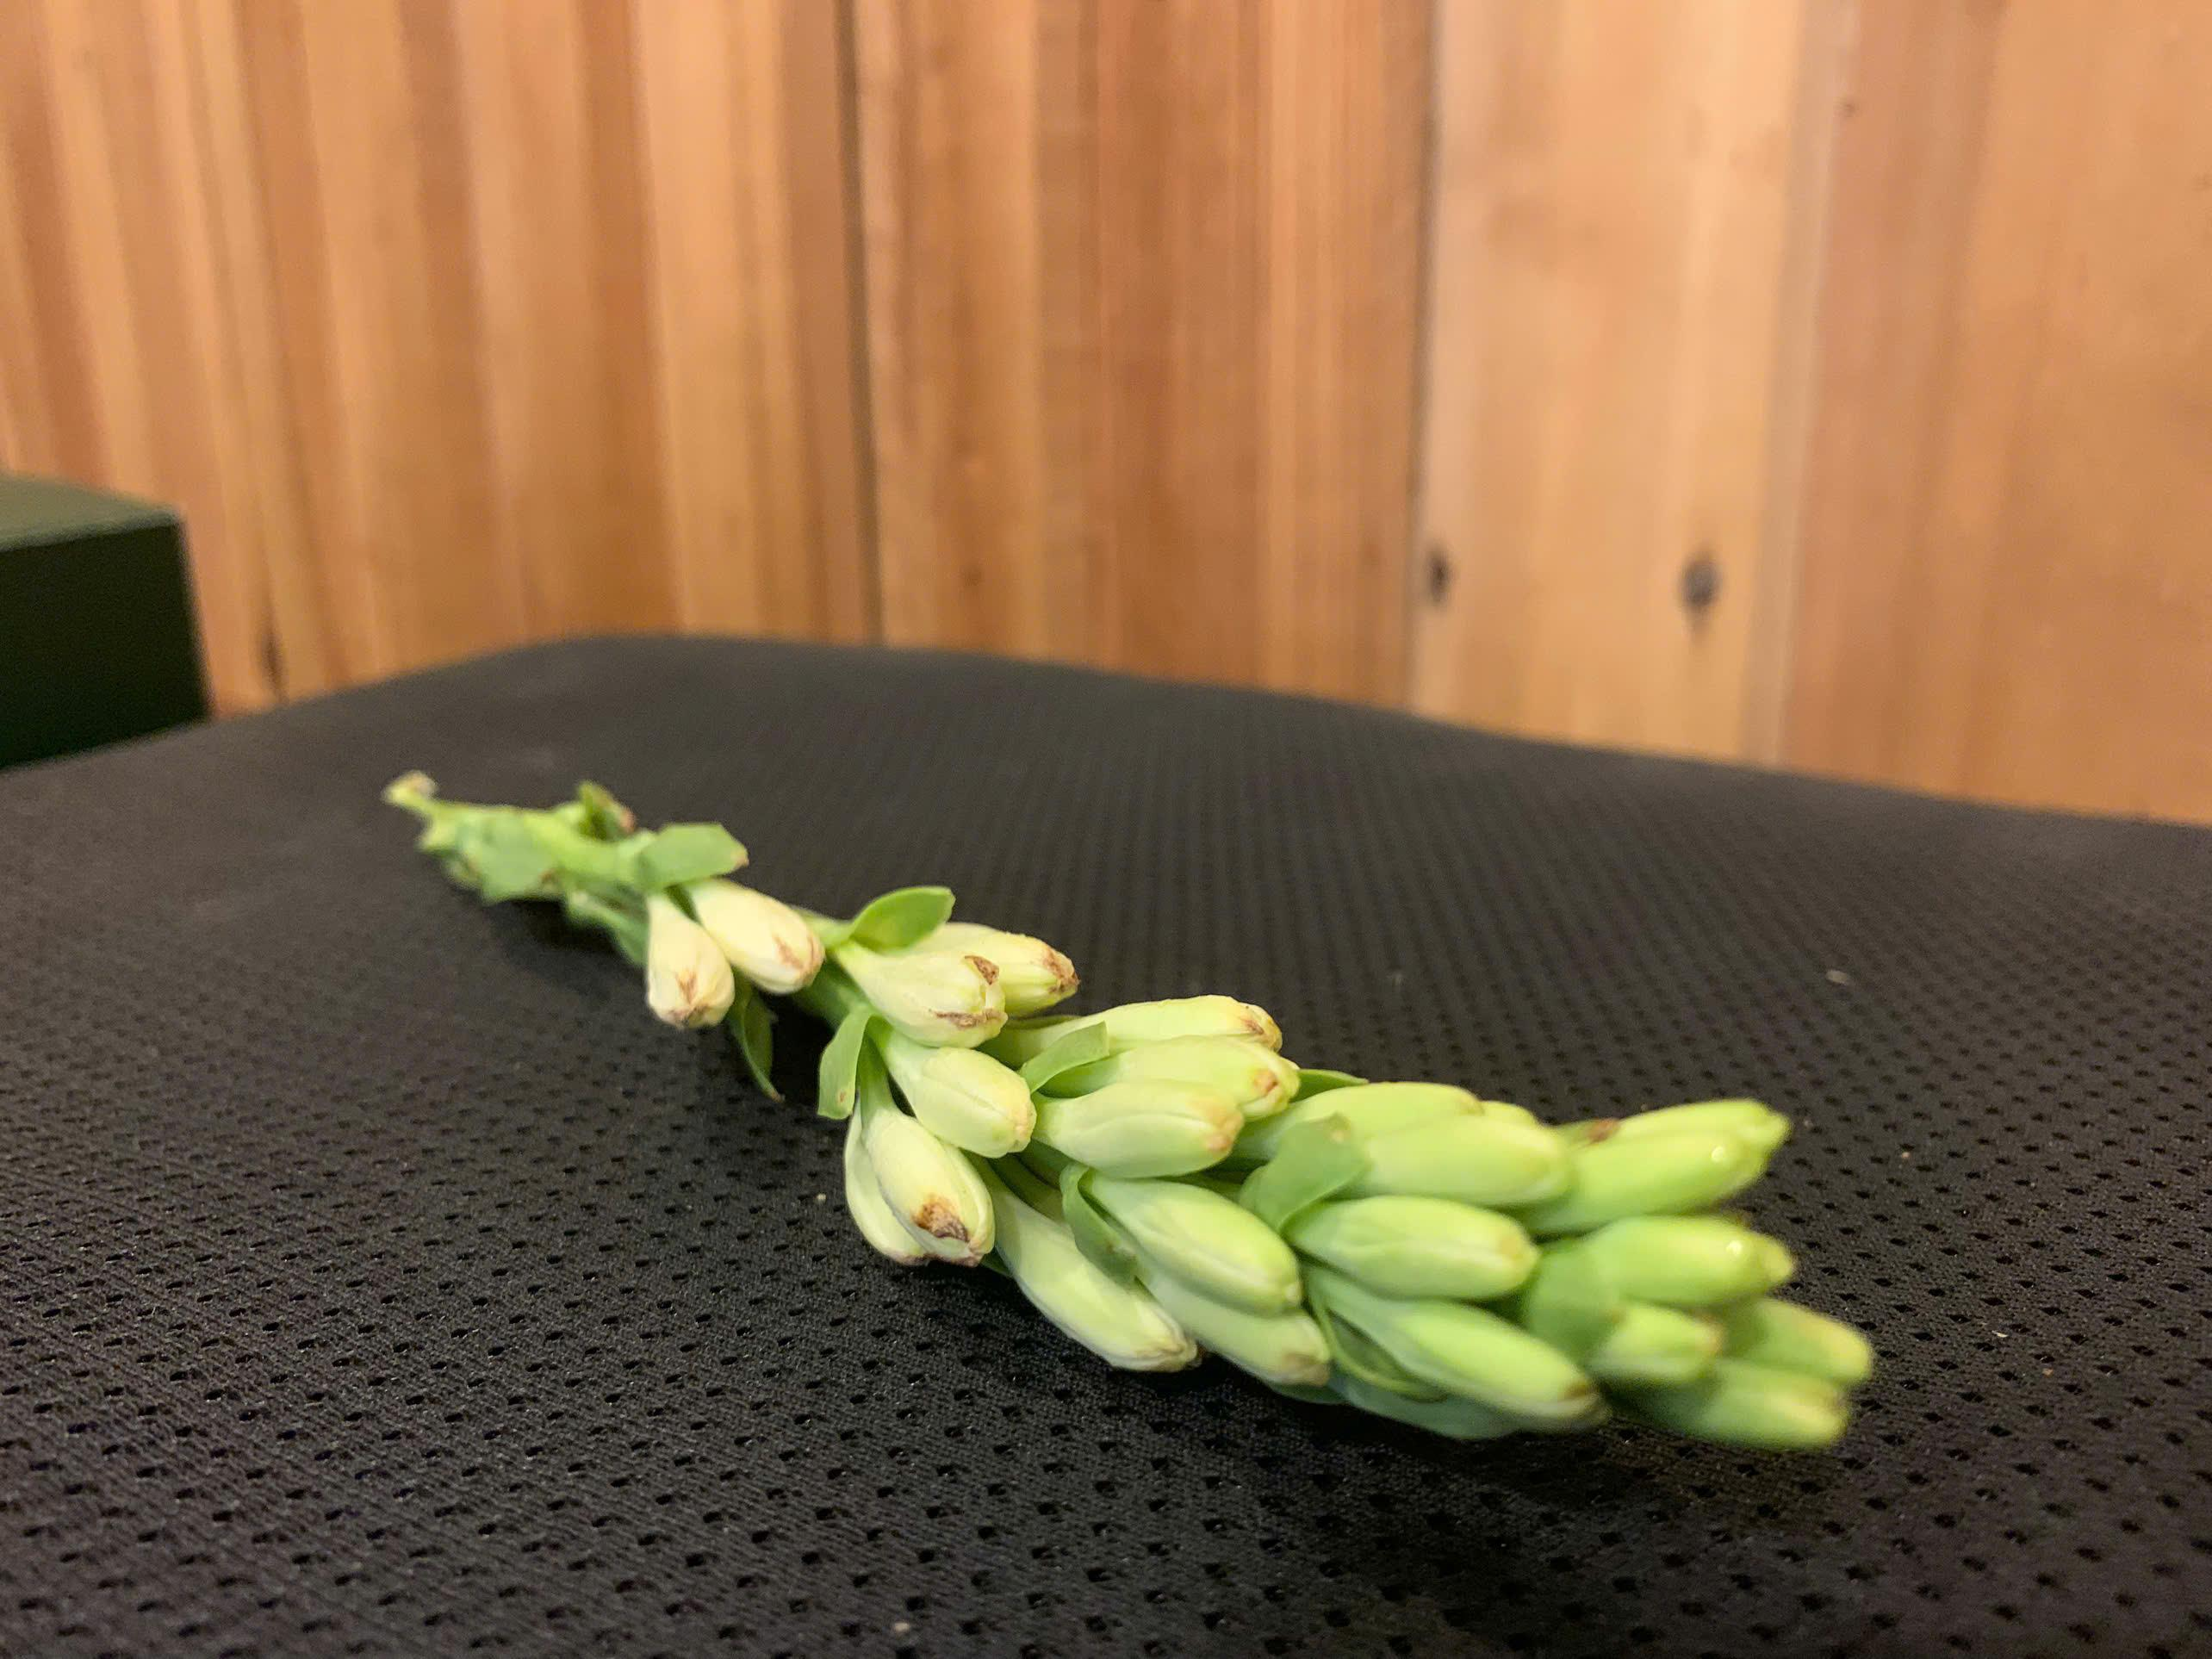Huu co: (416, 775, 1865, 1448)
